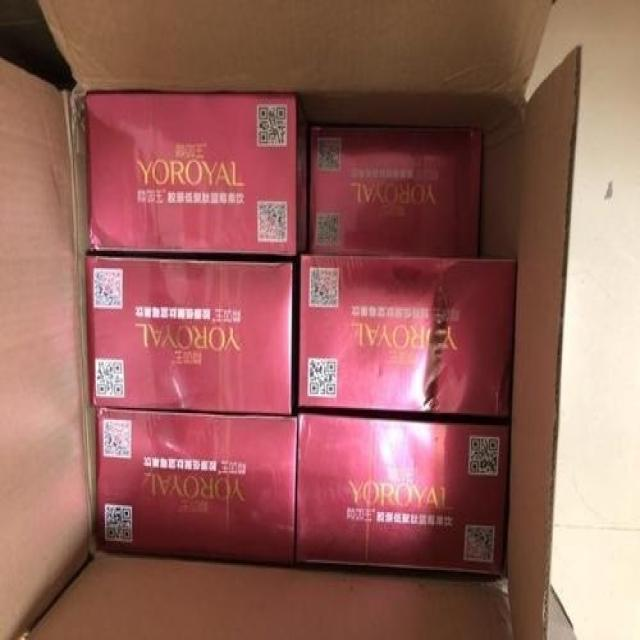box: (0, 1, 585, 638), (292, 409, 513, 577), (294, 254, 521, 416), (86, 91, 310, 255), (85, 252, 295, 413), (92, 407, 300, 563), (309, 127, 483, 253)
